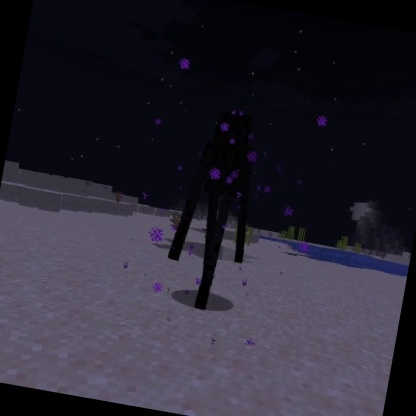enderman: (155, 100, 274, 320)
